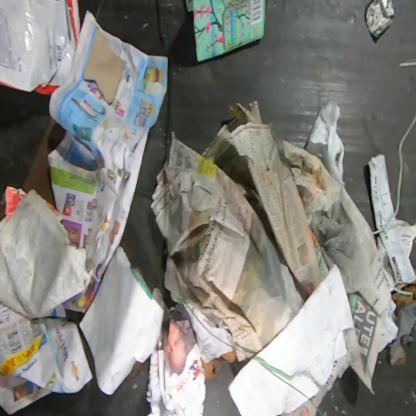cardboard: (184, 0, 265, 64), (83, 28, 127, 106)
soft_plastic: (0, 0, 81, 94)
